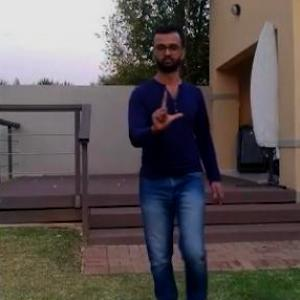land_hand: (146, 82, 187, 134)
